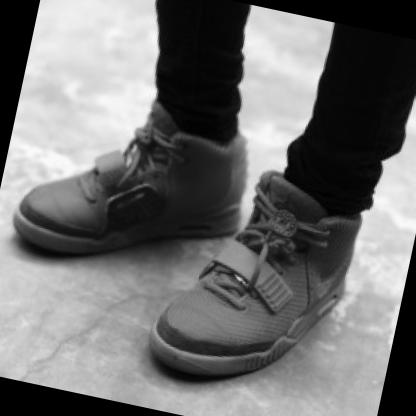ankle: (333, 234, 339, 240), (197, 138, 202, 145)
heel: (239, 187, 245, 192), (341, 277, 346, 283)
left_foot: (8, 101, 255, 289)
pinky: (246, 341, 255, 349), (40, 186, 45, 191)
right_foot: (149, 184, 362, 401)
toe: (163, 312, 172, 321), (53, 222, 60, 229)
